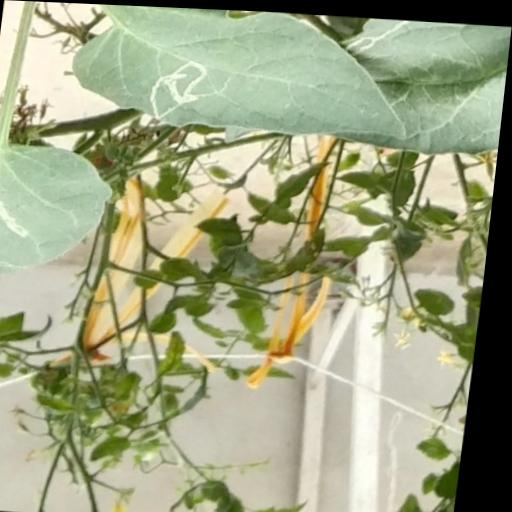Leaf_Miner: (65, 3, 422, 138), (0, 126, 122, 295), (342, 14, 411, 61)
